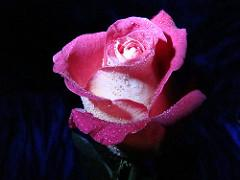Rose: (49, 9, 211, 145)
